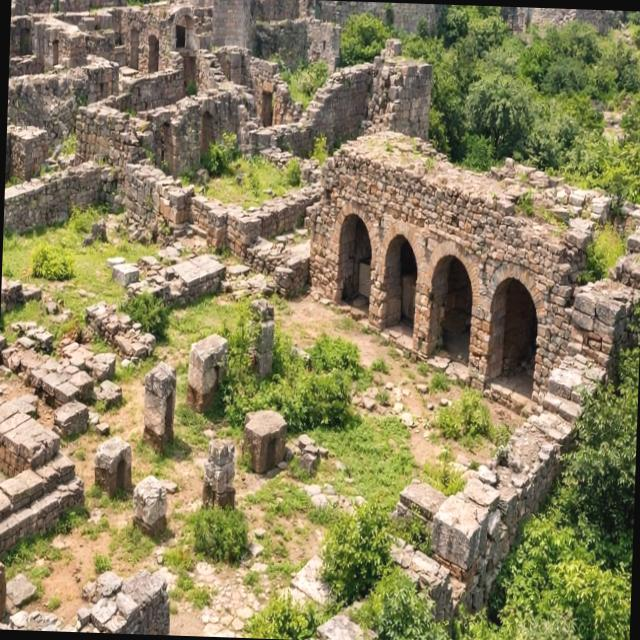objects-ruins-artifacts: (294, 104, 609, 472), (14, 306, 222, 516)
